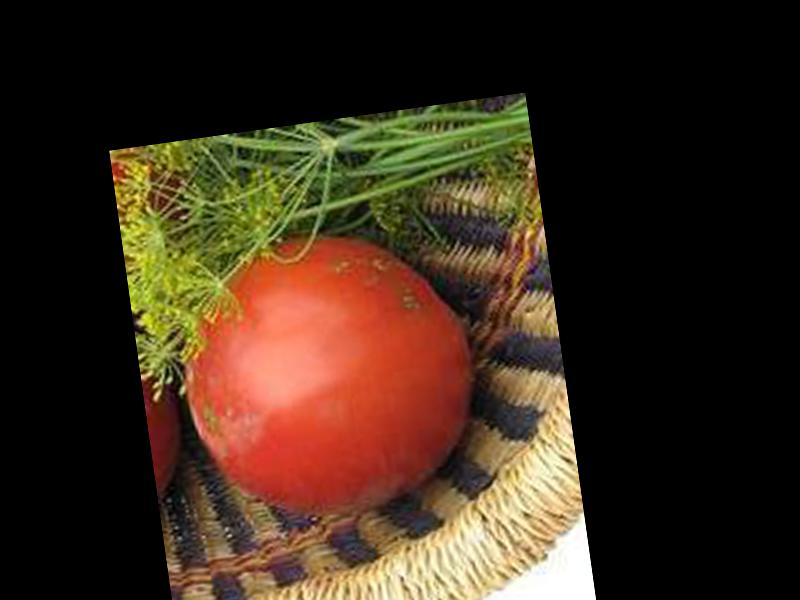Tomato: (166, 214, 486, 532)
